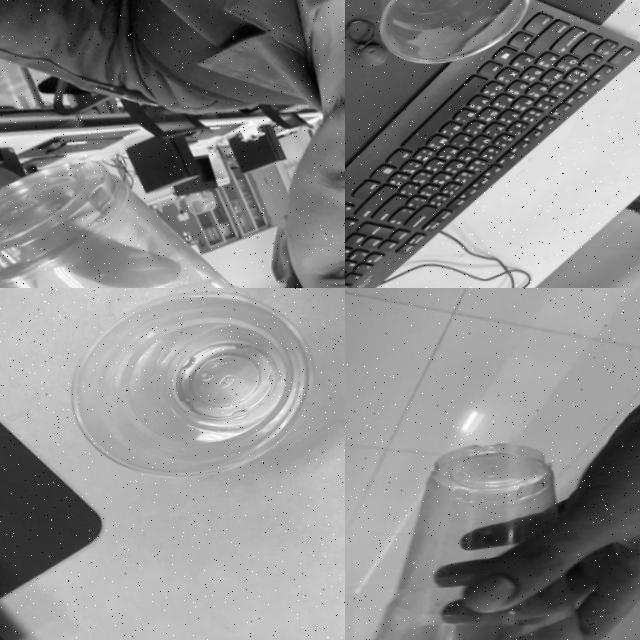glass: (345, 423, 624, 640), (51, 288, 328, 499), (0, 124, 337, 288), (346, 0, 543, 81)
